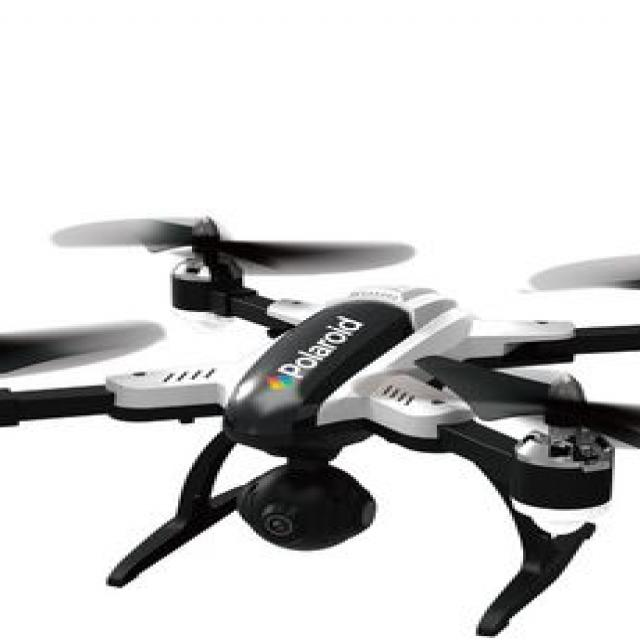drone: (0, 185, 640, 608)
